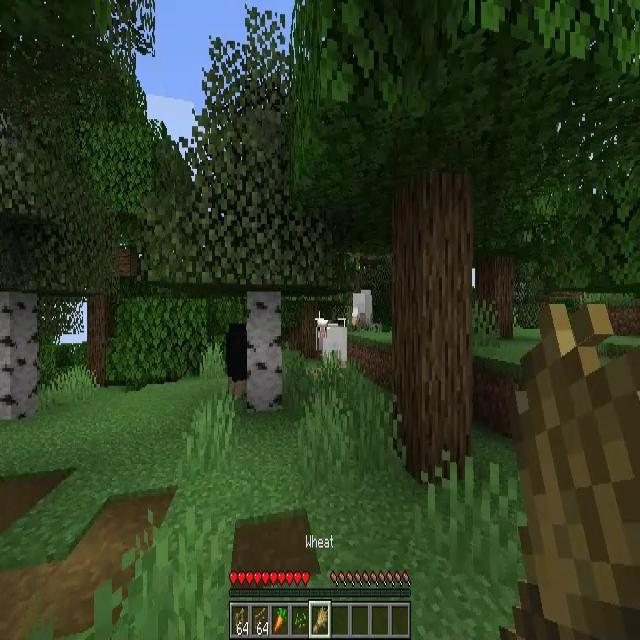sheep: (317, 320, 347, 368), (354, 289, 372, 325)
